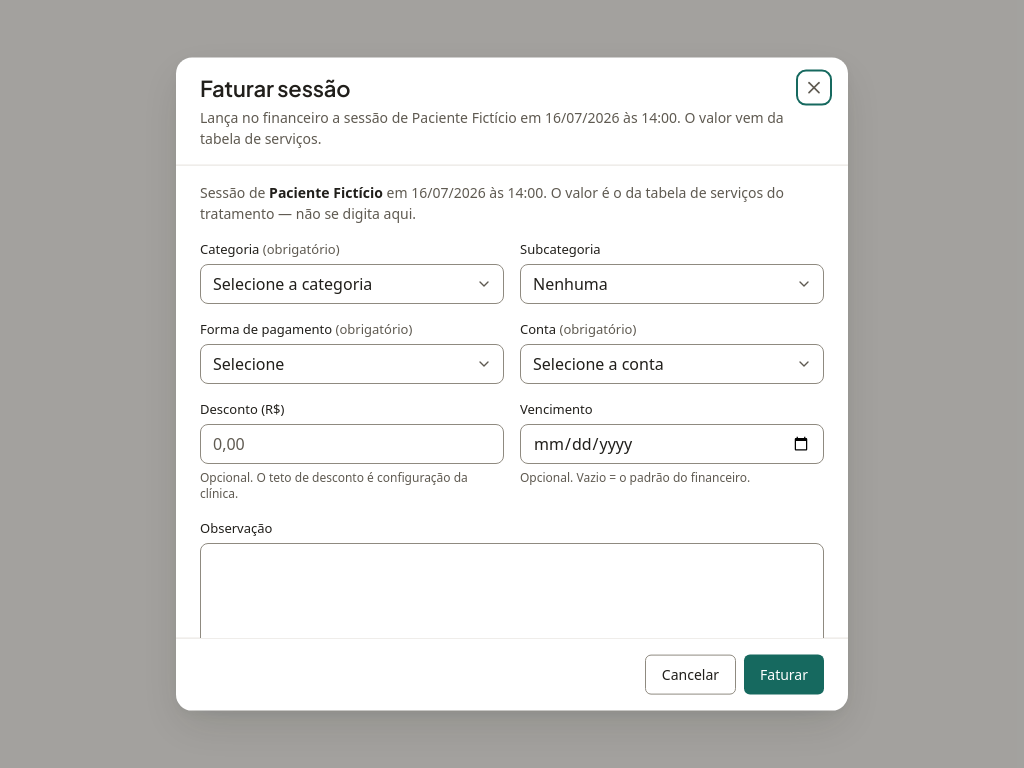
it: DialogoFaturarSessao — faturar a sessão pela agenda › deve mostrar o motivo do servidor quando a sessão não foi consumida, sem criar nada
Select "Atendimentos" in the dropdown labelled "Categoria (obrigatório)" at (352, 283), box [200,263,504,303]
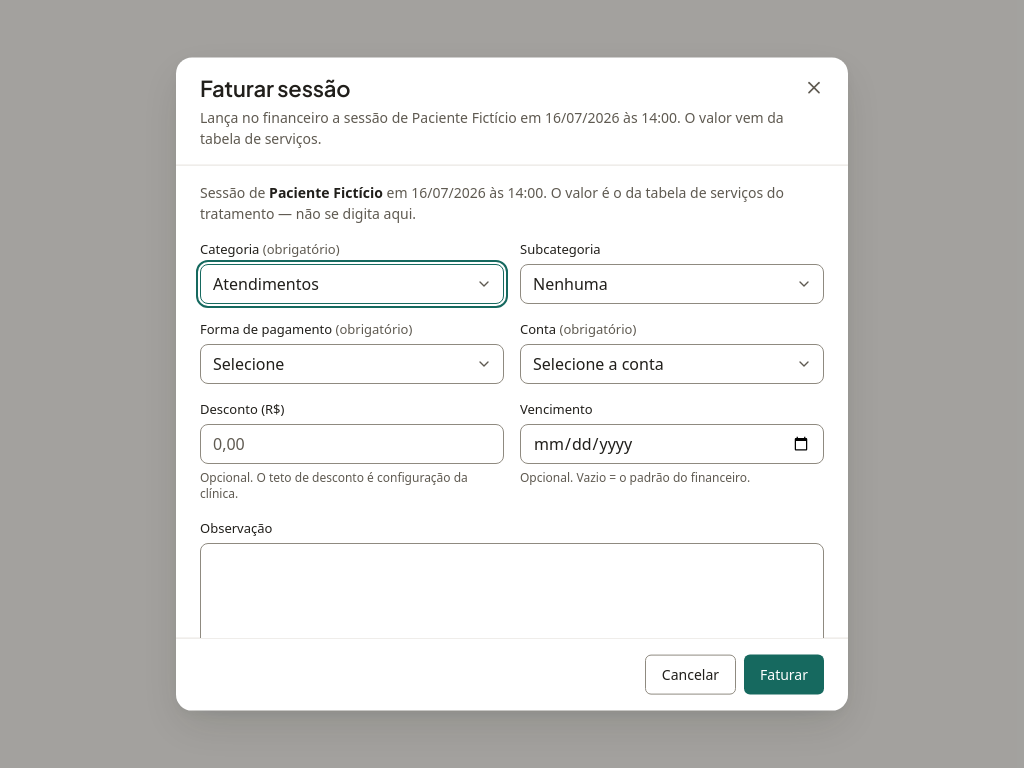
Select "Pix" in the dropdown labelled "Forma de pagamento (obrigatório)" at (352, 364), box [200,344,504,384]
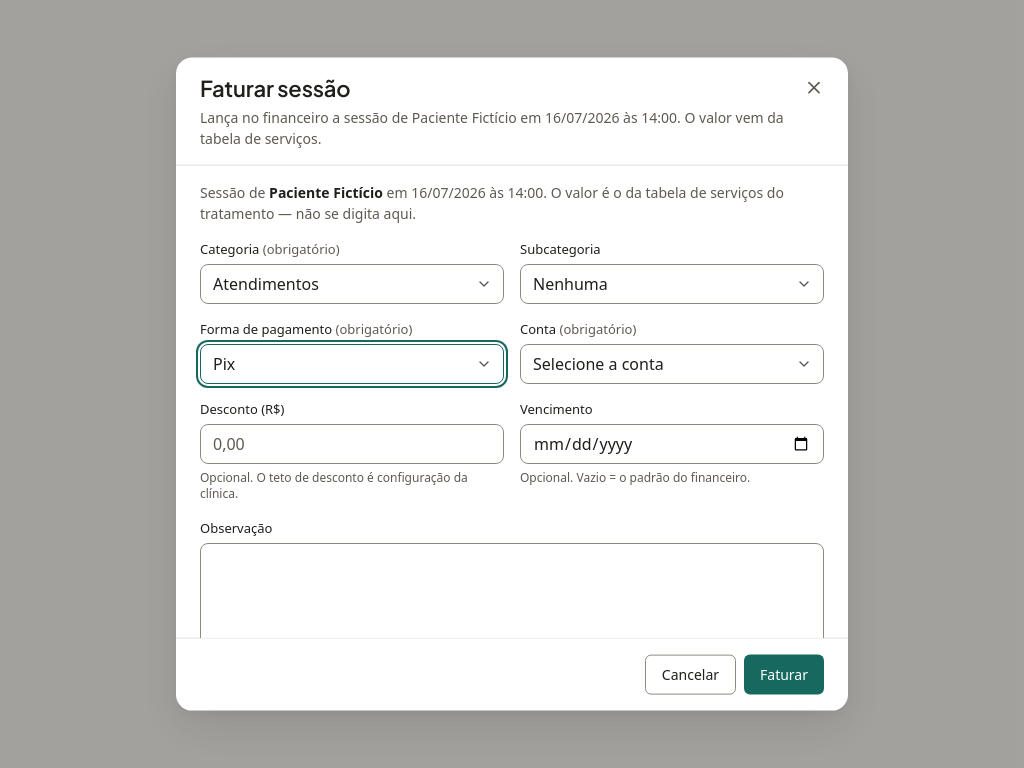
Select "Caixa da recepção" in the dropdown labelled "Conta (obrigatório)" at (672, 364), box [520,344,824,384]
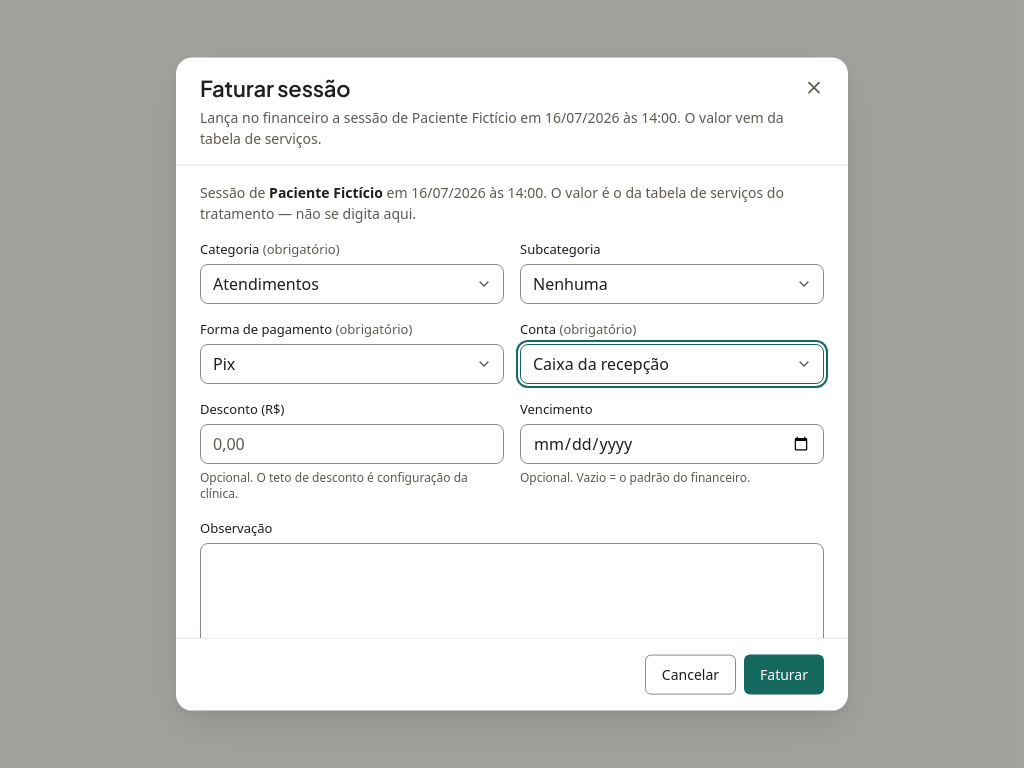
Click the button "Faturar" at (784, 674), box [744,654,824,694]
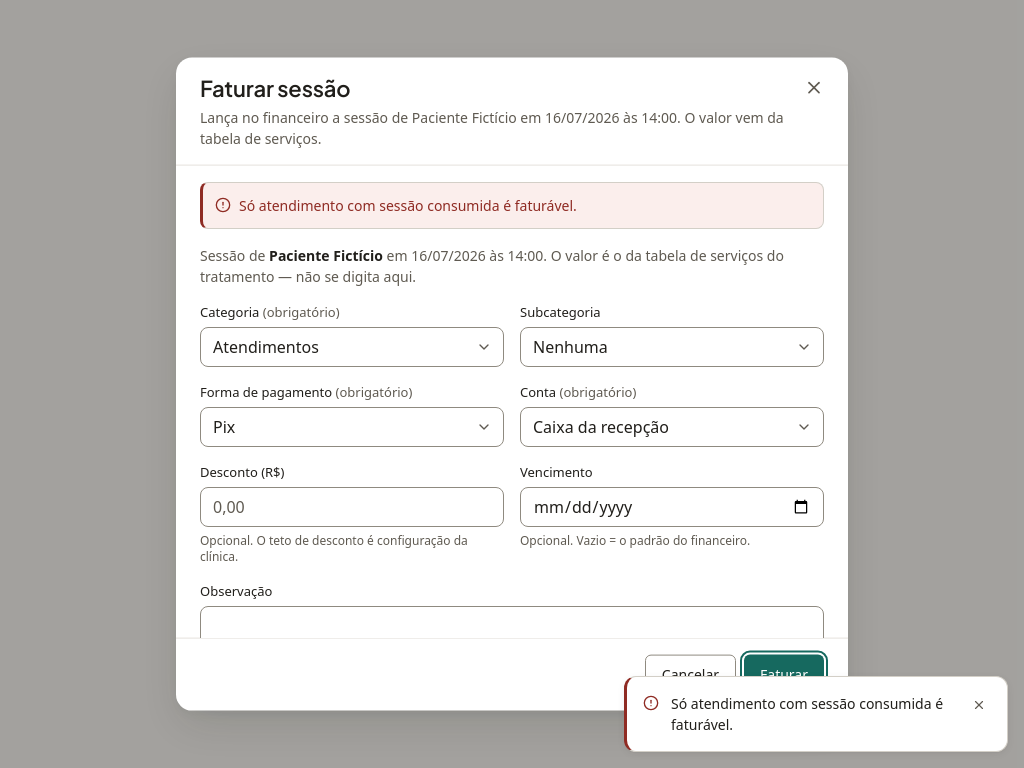
Check: the text "Só atendimento com sessão consumida é faturável." below "Faturar sessão" is shown, box [239,195,577,214]
